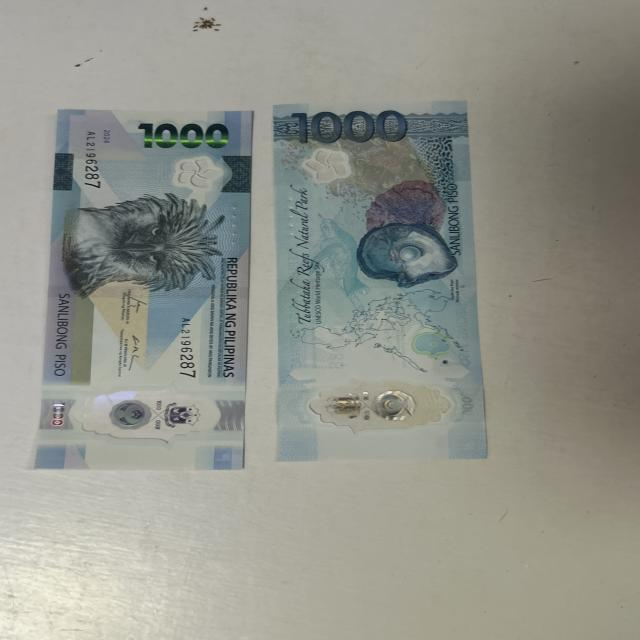clear_window: (290, 369, 466, 439), (63, 387, 237, 448)
eagle: (60, 191, 226, 296)
sampaguita: (300, 150, 364, 188), (165, 155, 228, 188)
serial_number: (168, 311, 202, 382), (81, 126, 112, 190)
value: (289, 109, 413, 148), (139, 118, 231, 150)
